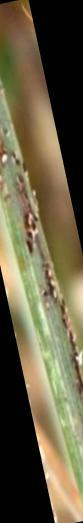Wheat: (7, 163, 83, 405)
